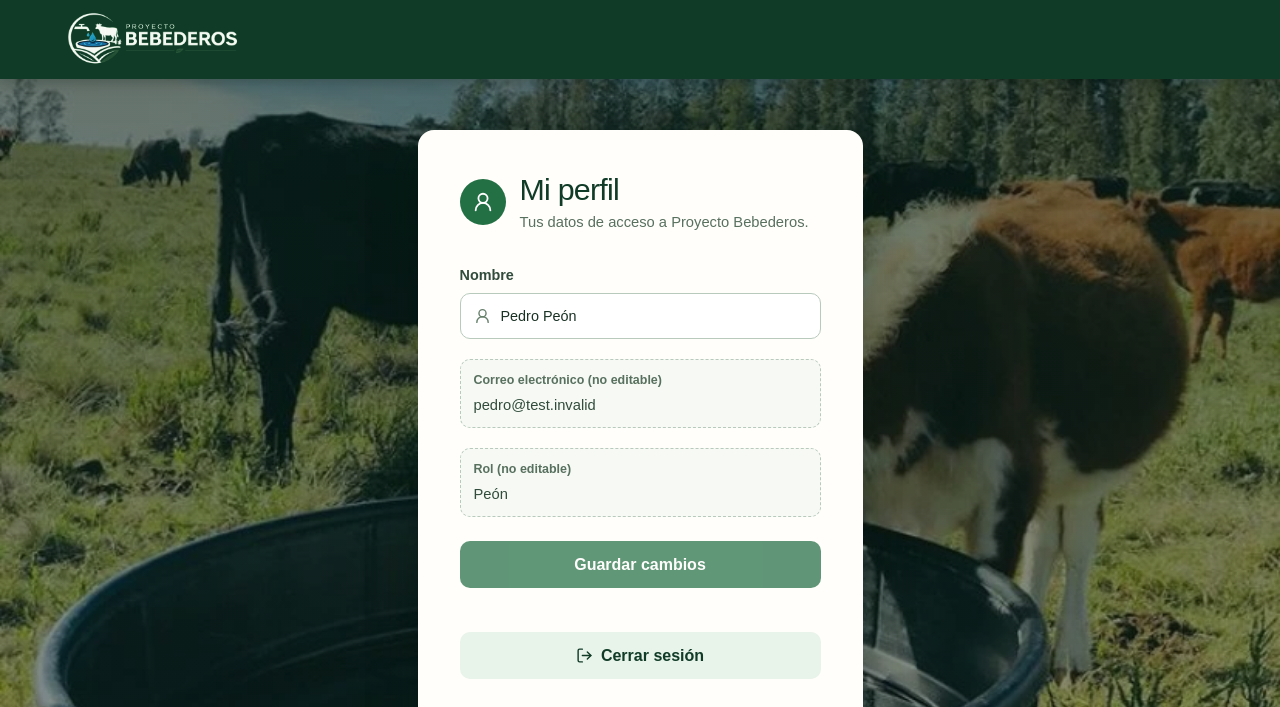
Test: el perfil edita solo el nombre; correo y rol quedan de solo lectura
Expected: the text "pedro@test.invalid" is shown, [474,397,596,413]
Expected: the text "Peón" is shown, [474,486,508,502]
Replace the text in the field with "Pedro P.": [648, 316] box [490,306,806,327]
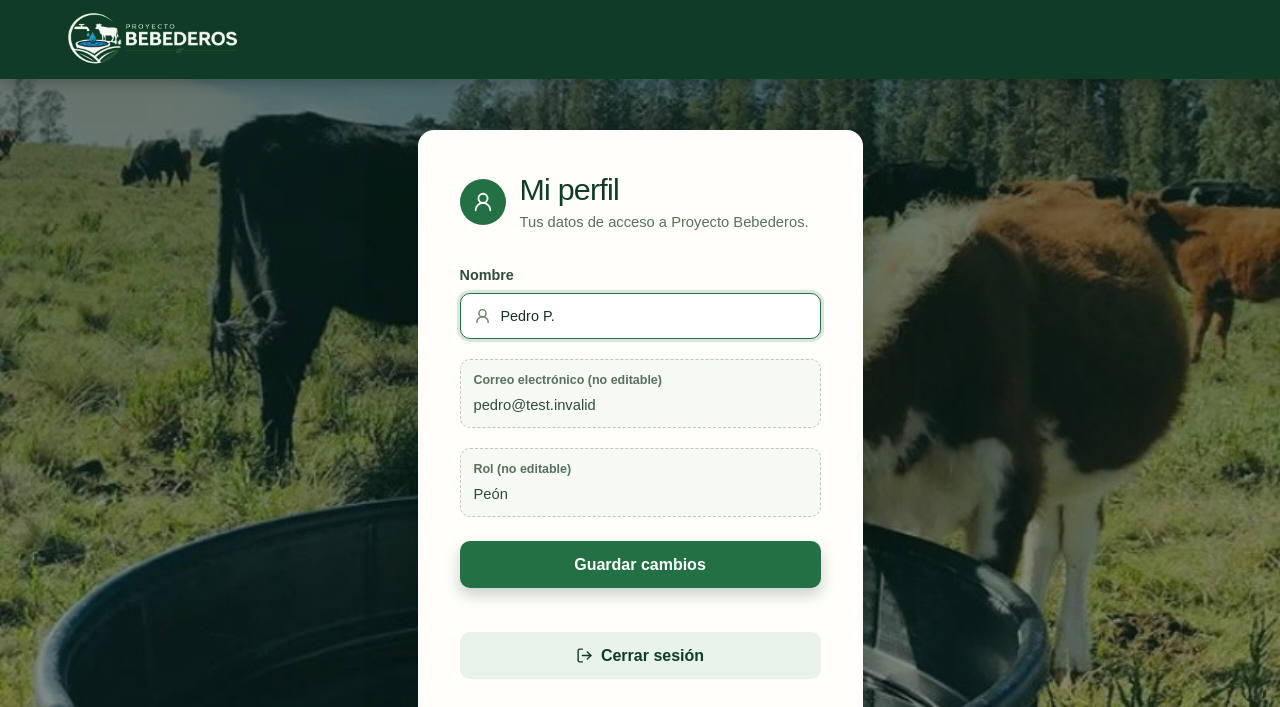
Click the button "Guardar cambios": [640, 565] box [460,541,820,588]
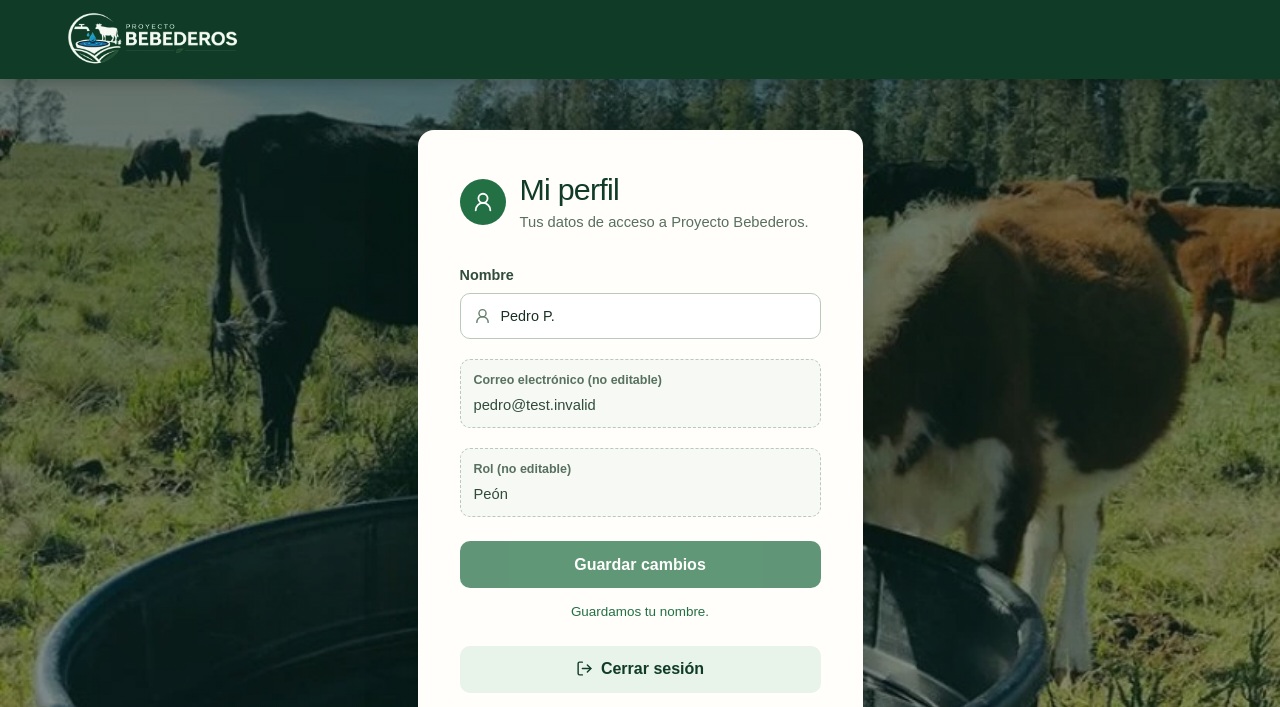
Result: the text "Guardamos tu nombre." is shown at [571,604,709,619]
